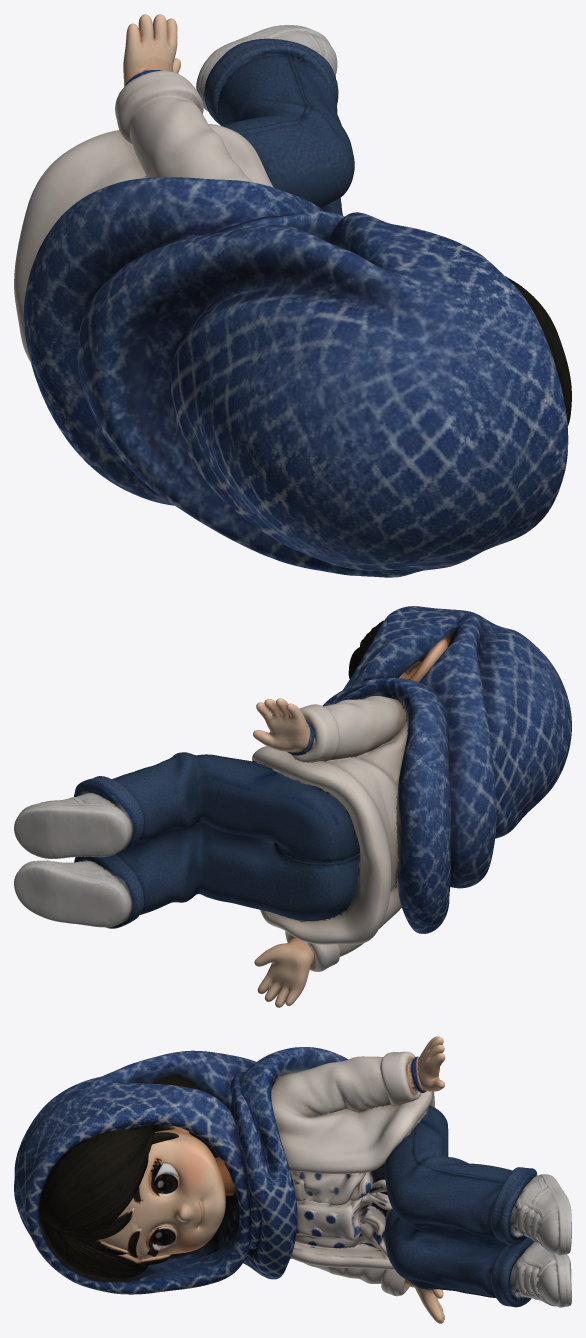
File: t-figure.glb
3 renders of one model, top to bottom at view 1: azimuth 30°, elevation 25°; view 2: azimuth 150°, elevation 25°; view 3: azimuth 270°, elevation 25°, orthographic. The views are drawn at different scales.
Visible parts, largest first — view 1: tripo_node_3e989748-ae62-4f18-bc9c-0e7aba87ce5d; view 2: tripo_node_3e989748-ae62-4f18-bc9c-0e7aba87ce5d; view 3: tripo_node_3e989748-ae62-4f18-bc9c-0e7aba87ce5d.
Part boxes in pixels (<box>): tripo_node_3e989748-ae62-4f18-bc9c-0e7aba87ce5d: <box>14,14,571,577</box>; tripo_node_3e989748-ae62-4f18-bc9c-0e7aba87ce5d: <box>14,606,571,1007</box>; tripo_node_3e989748-ae62-4f18-bc9c-0e7aba87ce5d: <box>14,1036,571,1323</box>.
Size of the model in its own units: 33.98 by 30.85 by 55.
1 material, 1 textured.
